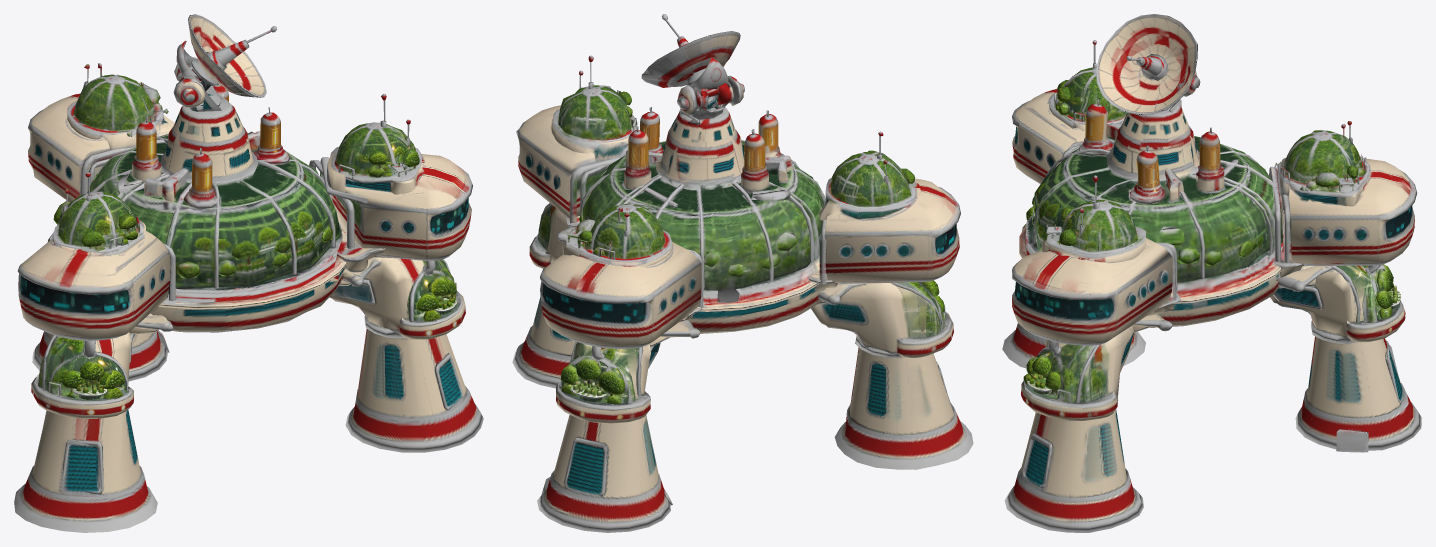
The model's file is headquarters.fbx.
3 renders of one model, left to right at view 1: azimuth 30°, elevation 25°; view 2: azimuth 150°, elevation 25°; view 3: azimuth 270°, elevation 25°, orthographic. The views are drawn at different scales.
Visible parts, largest first — view 1: Mesh_0; view 2: Mesh_0; view 3: Mesh_0.
Part boxes in pixels (x1,y1,x2,y2): Mesh_0: (14,14,483,532); Mesh_0: (512,14,973,532); Mesh_0: (1002,14,1421,532).
Size of the model in its own units: 96.14 by 83.59 by 78.81.
1 material, 1 textured.
